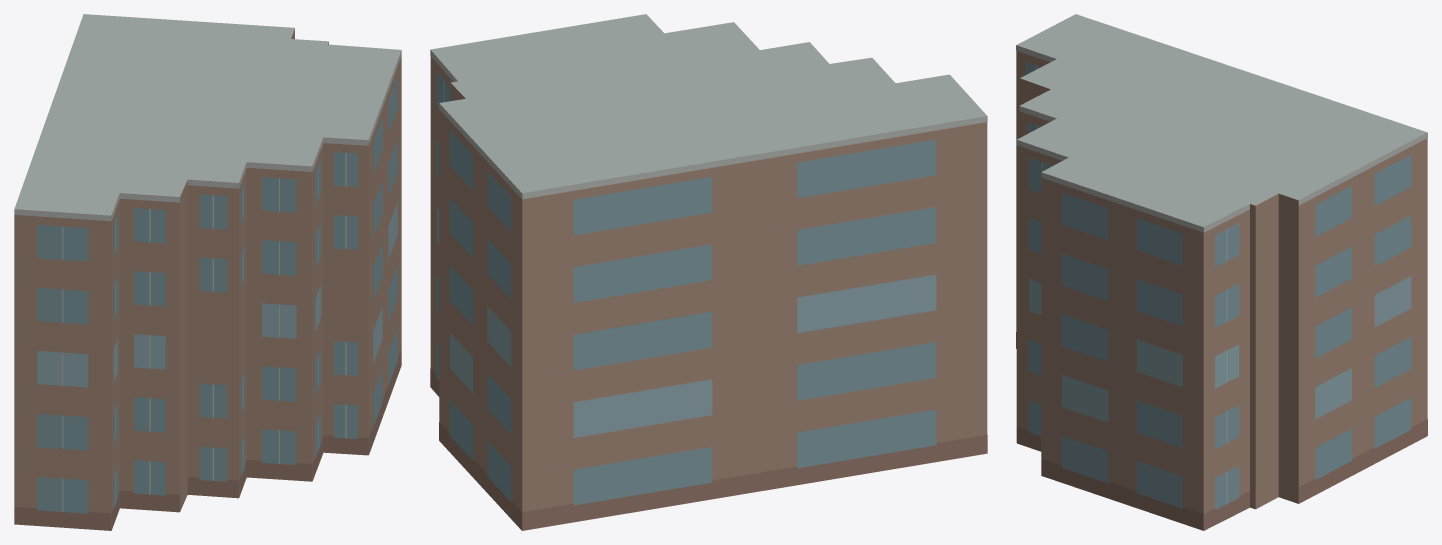
The model's file is survey-upis-32788490.glb.
3 renders of one model, left to right at view 1: azimuth 30°, elevation 25°; view 2: azimuth 150°, elevation 25°; view 3: azimuth 270°, elevation 25°, orthographic. The views are drawn at different scales.
Visible parts, largest first — view 1: survey-upis-32788490.tmp; view 2: survey-upis-32788490.tmp; view 3: survey-upis-32788490.tmp.
Boxes of the visible parts, x1,y1,x2,y2 form: survey-upis-32788490.tmp: [14, 14, 401, 530]; survey-upis-32788490.tmp: [430, 14, 987, 530]; survey-upis-32788490.tmp: [1016, 14, 1427, 530].
Size of the model in its own units: 20.57 by 13.65 by 16.78.
